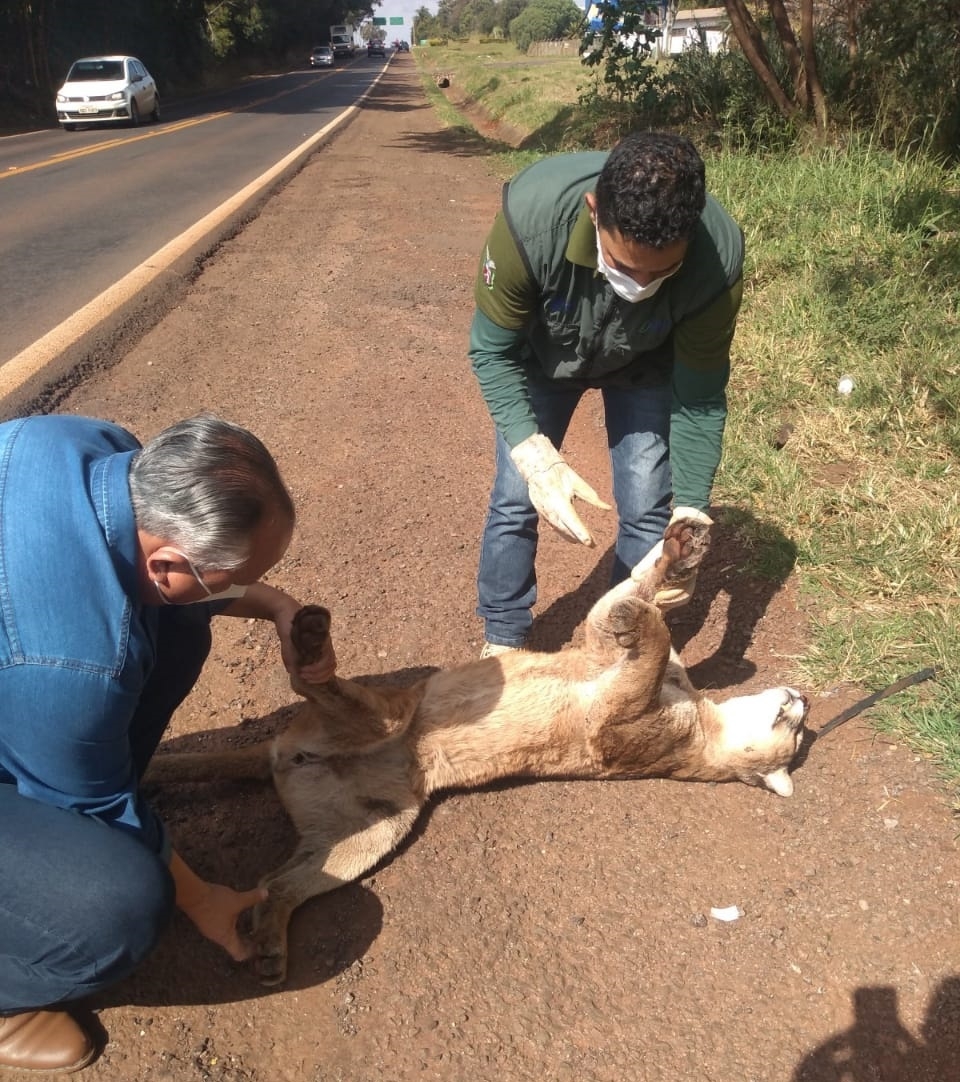OncaParda: (273, 530, 823, 932)
